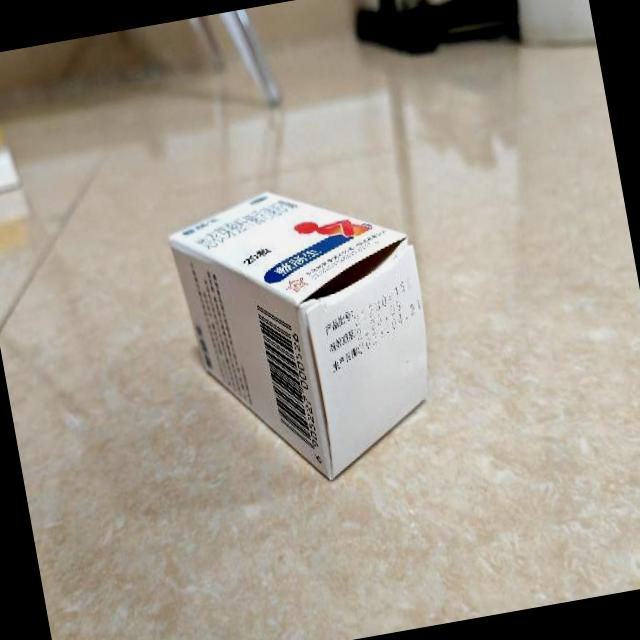box: (162, 166, 451, 503)
